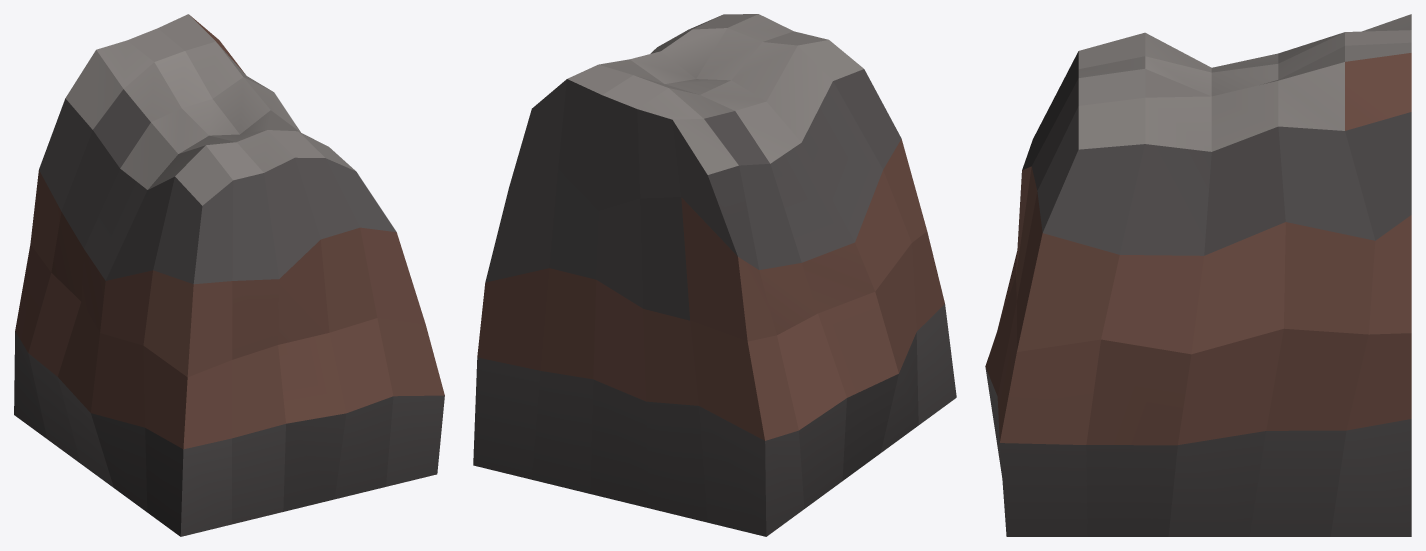
The model's file is roca_punta_2.glb.
The picture shows the model from 3 angles, left to right: view 1: azimuth 30°, elevation 25°; view 2: azimuth 150°, elevation 25°; view 3: azimuth 270°, elevation 25°; orthographic projection. The views are drawn at different scales.
Parts seen in each view (by area): view 1: propforge-cuartos-roca_punta; view 2: propforge-cuartos-roca_punta; view 3: propforge-cuartos-roca_punta.
Part boxes in pixels (x1,y1,x2,y2): propforge-cuartos-roca_punta: (14, 14, 444, 536); propforge-cuartos-roca_punta: (473, 14, 956, 536); propforge-cuartos-roca_punta: (985, 14, 1411, 536).
Bounding box in the file's own units: 0.8967 × 1.07 × 0.9471.
